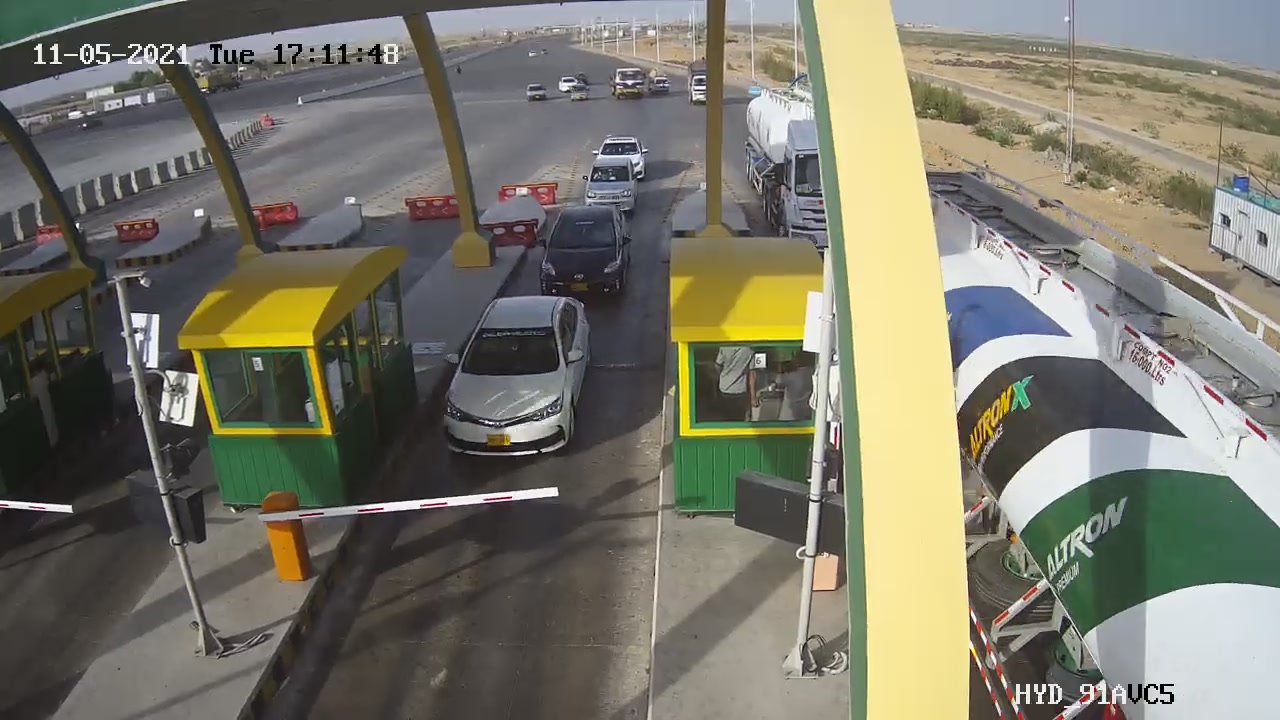F1: (420, 283, 614, 478), (524, 194, 647, 318)
